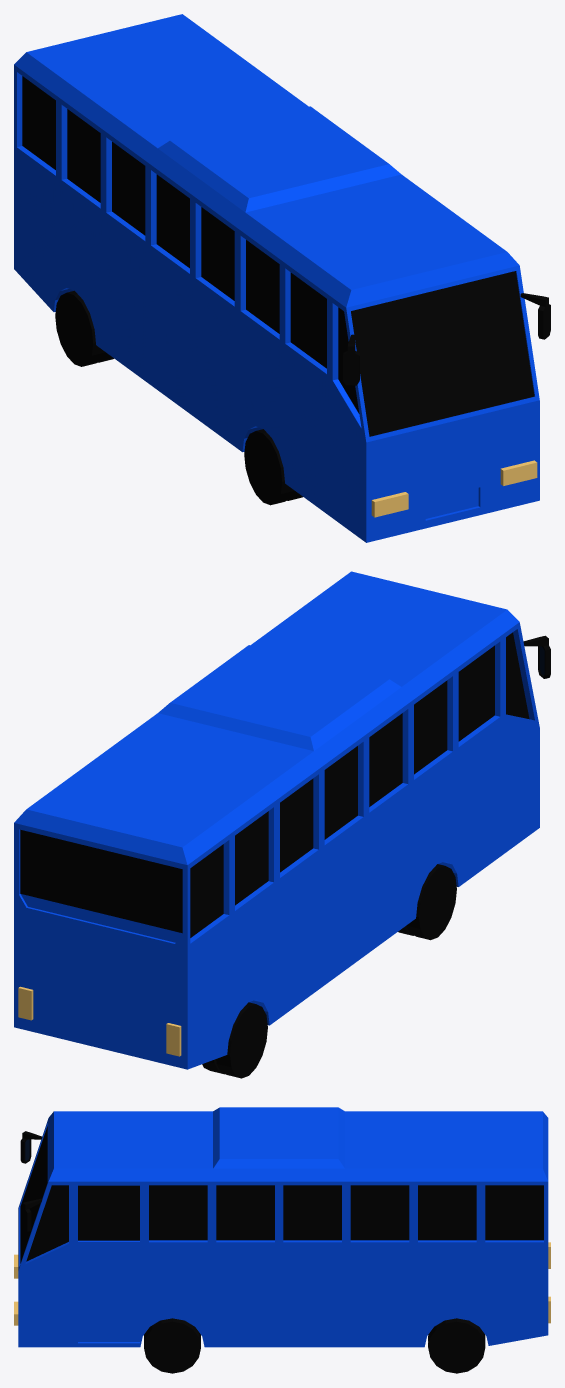
File: bus_blue.fbx
3 renders of one model, top to bottom at view 1: azimuth 30°, elevation 25°; view 2: azimuth 150°, elevation 25°; view 3: azimuth 270°, elevation 25°, orthographic. The views are drawn at different scales.
Visible parts, largest first — view 1: bus_blue; view 2: bus_blue; view 3: bus_blue.
Boxes of the visible parts, x1,y1,x2,y2 form: bus_blue: (14,14,550,542); bus_blue: (14,571,550,1078); bus_blue: (14,1107,550,1373).
Size of the model in its own units: 329 by 419 by 978.
